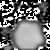node: (11, 20, 46, 50)
